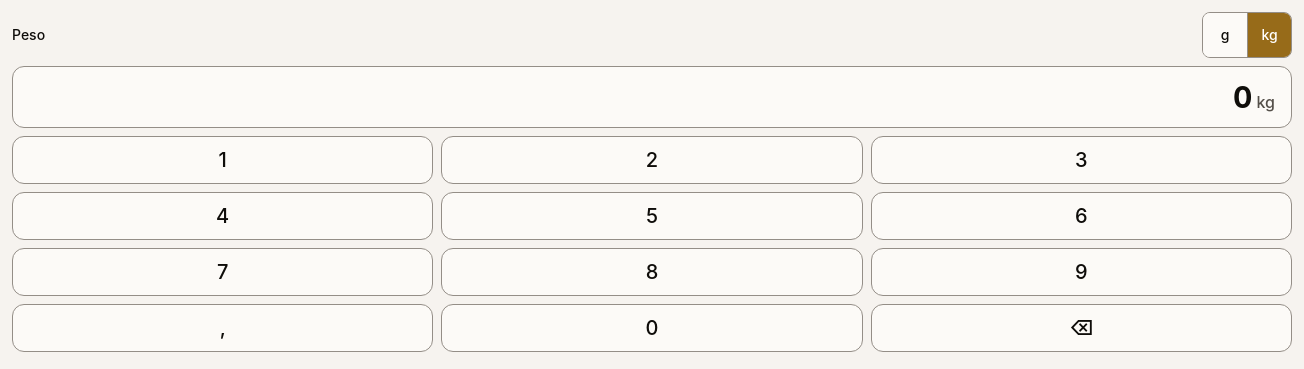
Test: TecladoPeso › cambiar de kg a g conserva el valor de dominio
Click the button "1".
click(223, 160)  # box [12,136,433,184]
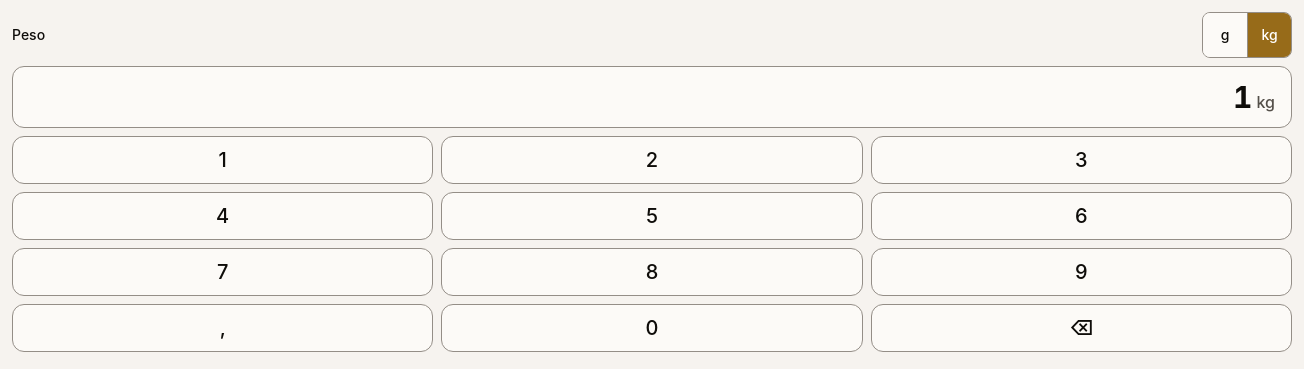
Click the button "g".
click(1225, 35)  # box [1203,13,1247,57]
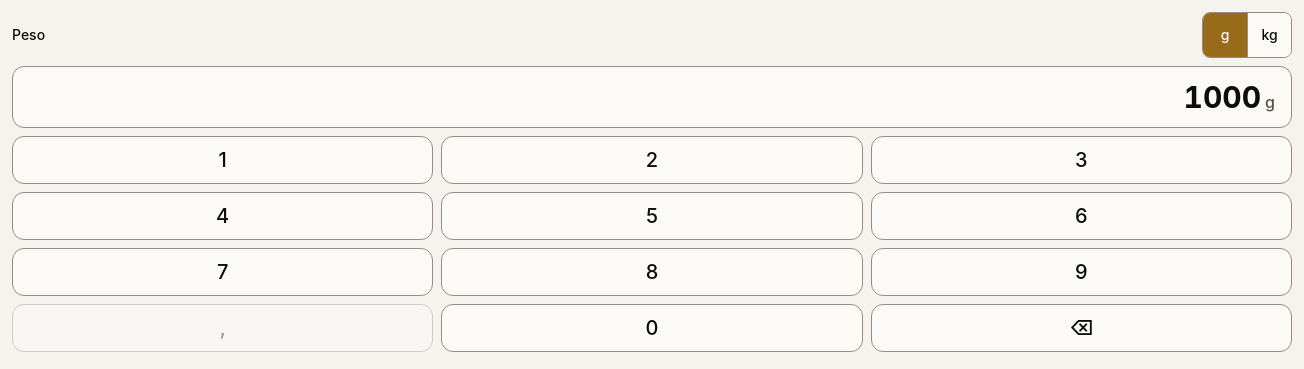
expect the field reads "1000g": met, box [12,66,1292,128]
